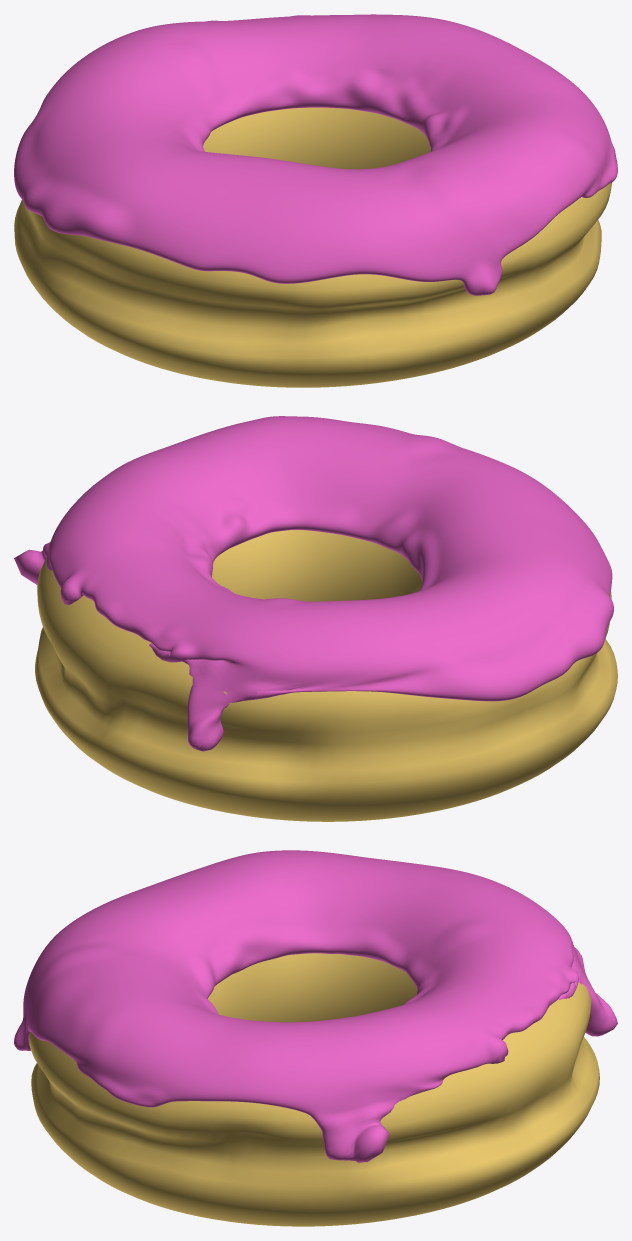
The model's file is donut.glb.
3 views of the same model, one above another, from view 1: azimuth 30°, elevation 25°; view 2: azimuth 150°, elevation 25°; view 3: azimuth 270°, elevation 25° (orthographic). The views are drawn at different scales.
Parts seen in each view (by area): view 1: Icing, Donut; view 2: Icing, Donut; view 3: Icing, Donut.
Boxes of the visible parts, <box> form: Icing: <box>14,14,617,295</box>; Donut: <box>14,107,612,387</box>; Icing: <box>14,416,613,751</box>; Donut: <box>35,530,617,821</box>; Icing: <box>14,850,617,1162</box>; Donut: <box>29,953,599,1226</box>.
Size of what is drawn, in the model's own units: 0.1532 by 0.0543 by 0.151.
